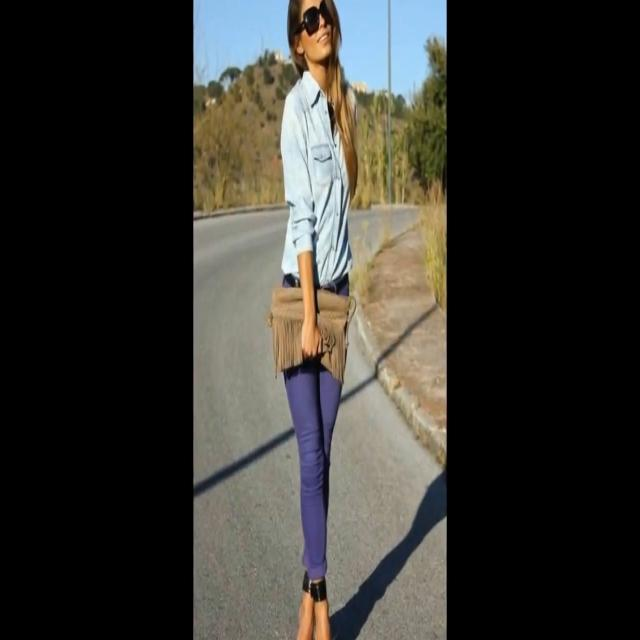Shirt: (279, 66, 359, 282)
